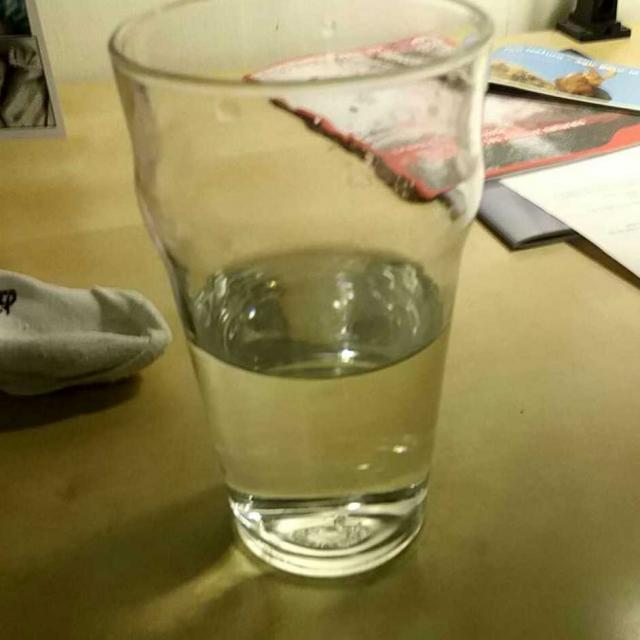water: (144, 80, 471, 534)
